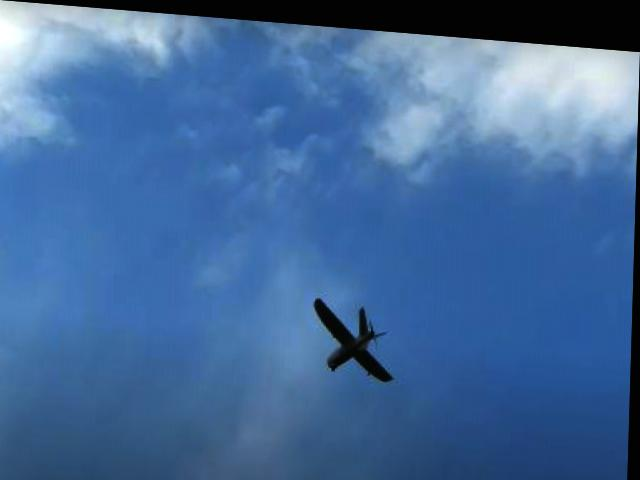uav: (313, 286, 397, 381)
